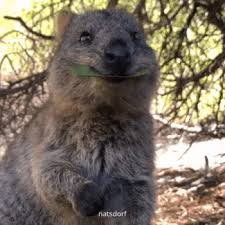quokka: (0, 5, 169, 225)
